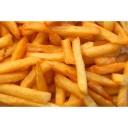frenchfries: (2, 21, 128, 106)
